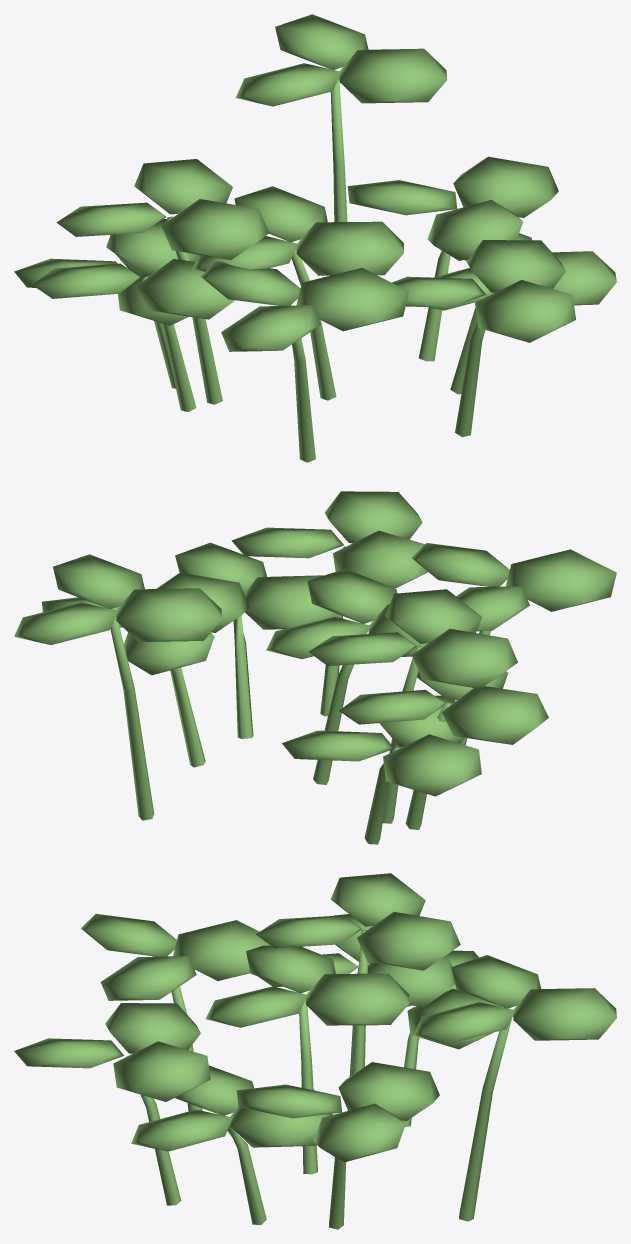
The model's file is clover_patch.glb.
3 renders of one model, top to bottom at view 1: azimuth 30°, elevation 25°; view 2: azimuth 150°, elevation 25°; view 3: azimuth 270°, elevation 25°, orthographic. The views are drawn at different scales.
Visible parts, largest first — view 1: SM_Forest_CloverPatch; view 2: SM_Forest_CloverPatch; view 3: SM_Forest_CloverPatch.
Boxes of the visible parts, x1,y1,x2,y2 form: SM_Forest_CloverPatch: (14, 14, 616, 462); SM_Forest_CloverPatch: (14, 491, 616, 844); SM_Forest_CloverPatch: (14, 873, 616, 1229).
Size of the model in its own units: 0.6232 by 0.2797 by 0.6627.
